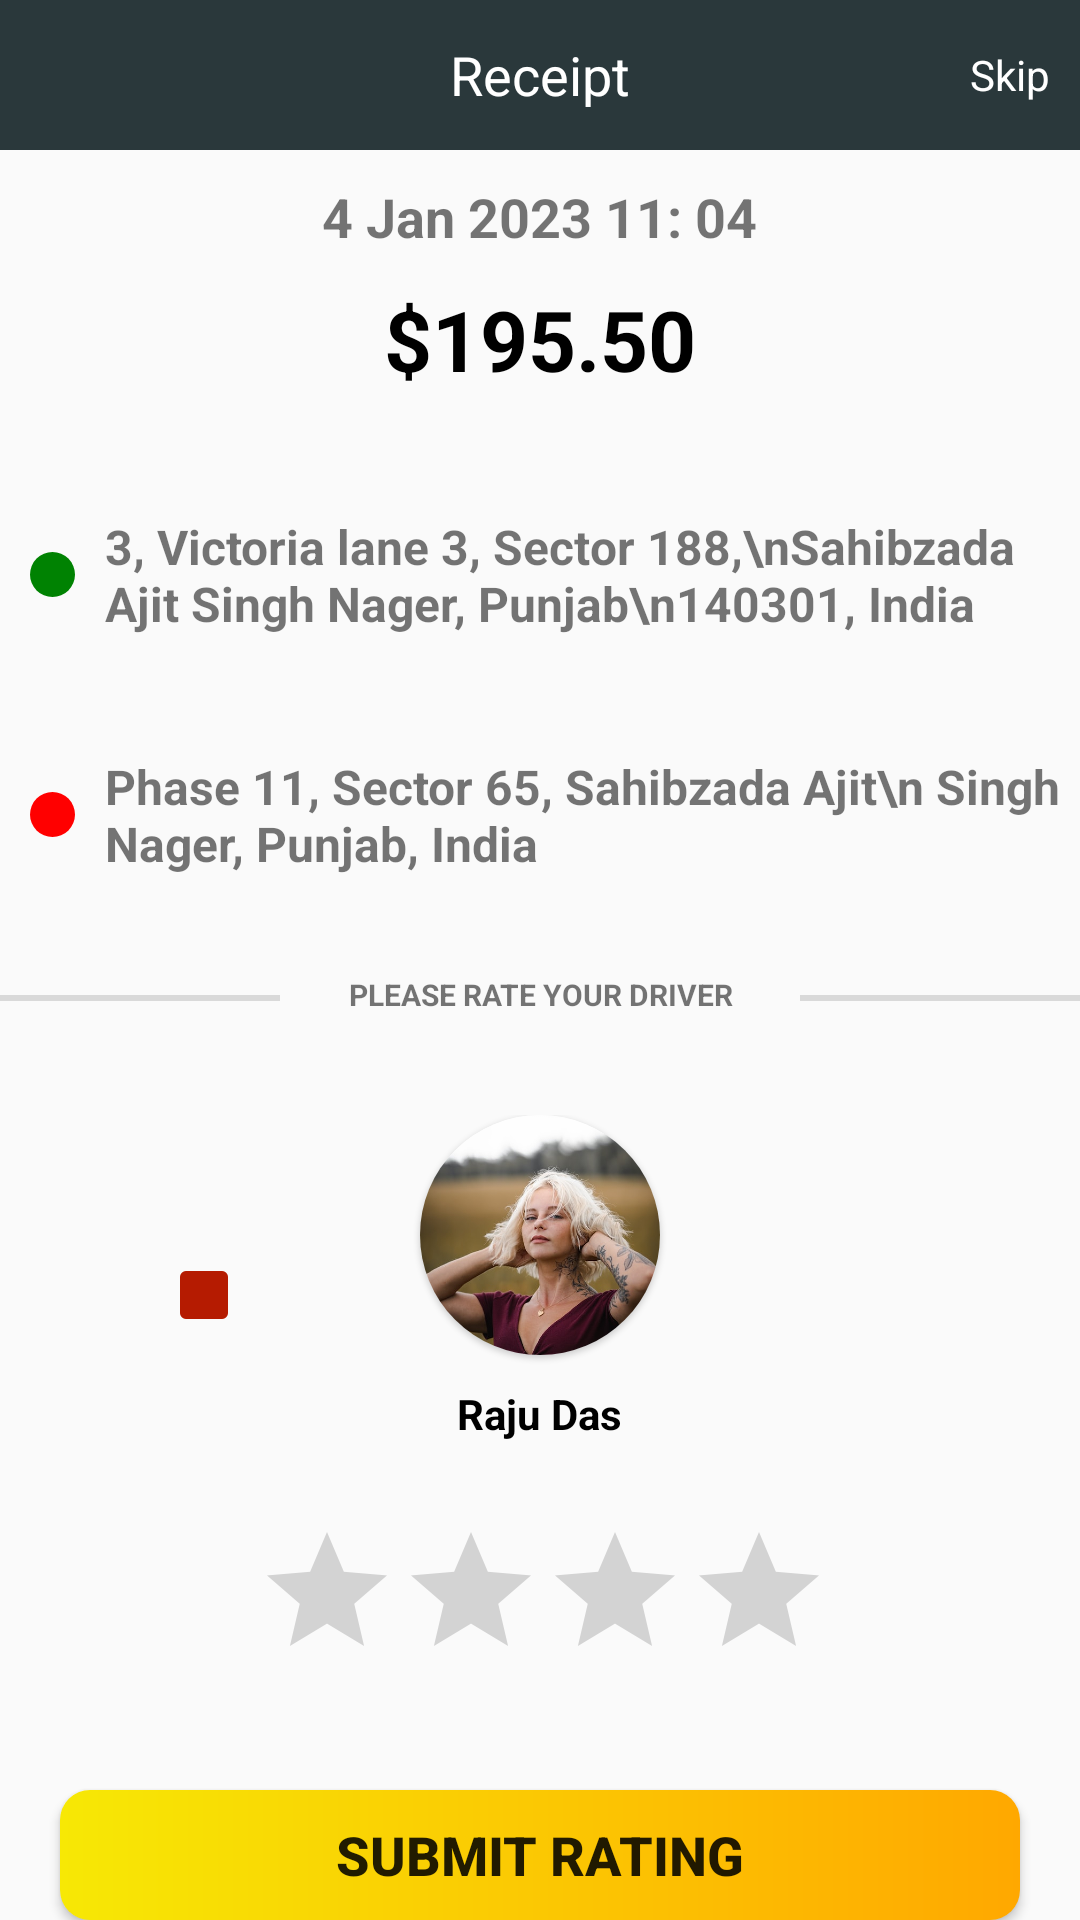

Locate icon controls on the screen. Image size 1080 x 1920, boxes as {"left": x1, "top": y1, "right": x2, "bottom": y2}.
girls: {"left": 420, "top": 1135, "right": 660, "bottom": 1355}
